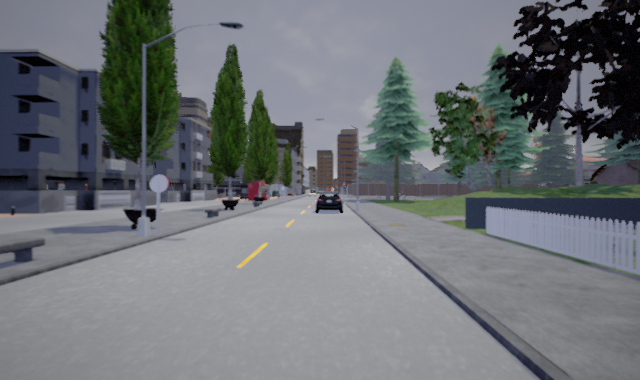vehicle: (314, 191, 343, 213)
